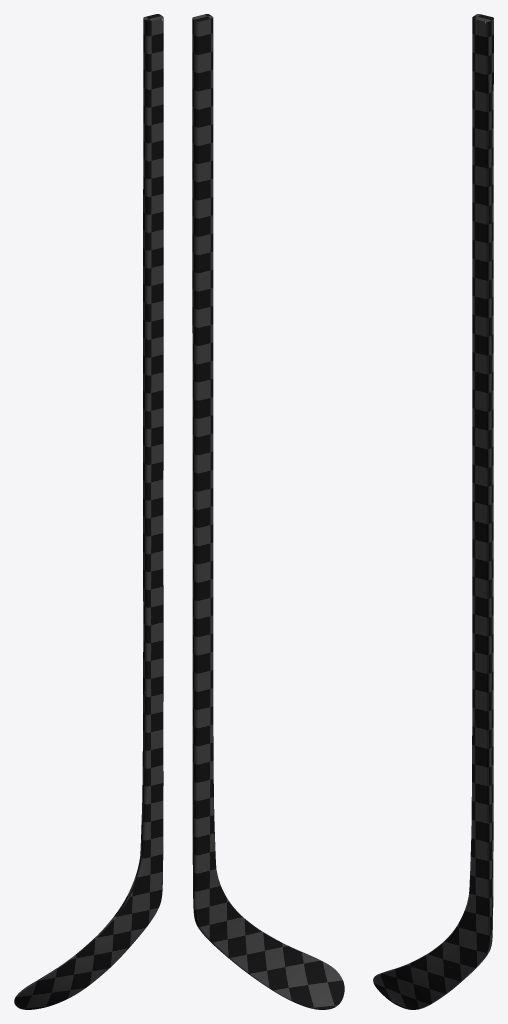
3 views of the same model, side by side, from view 1: azimuth 30°, elevation 25°; view 2: azimuth 210°, elevation 25°; view 3: azimuth 330°, elevation 25° (orthographic). The views are drawn at different scales.
Parts seen in each view (by area): view 1: geometry_0; view 2: geometry_0; view 3: geometry_0.
Part boxes in pixels (x1=…): geometry_0: x1=14, y1=14, x2=163, y2=1009; geometry_0: x1=192, y1=14, x2=344, y2=1009; geometry_0: x1=373, y1=14, x2=493, y2=1009.
Size of the model in its own units: 228 by 1650 by 77.25.
Materials: 1 (1 with a texture image).
